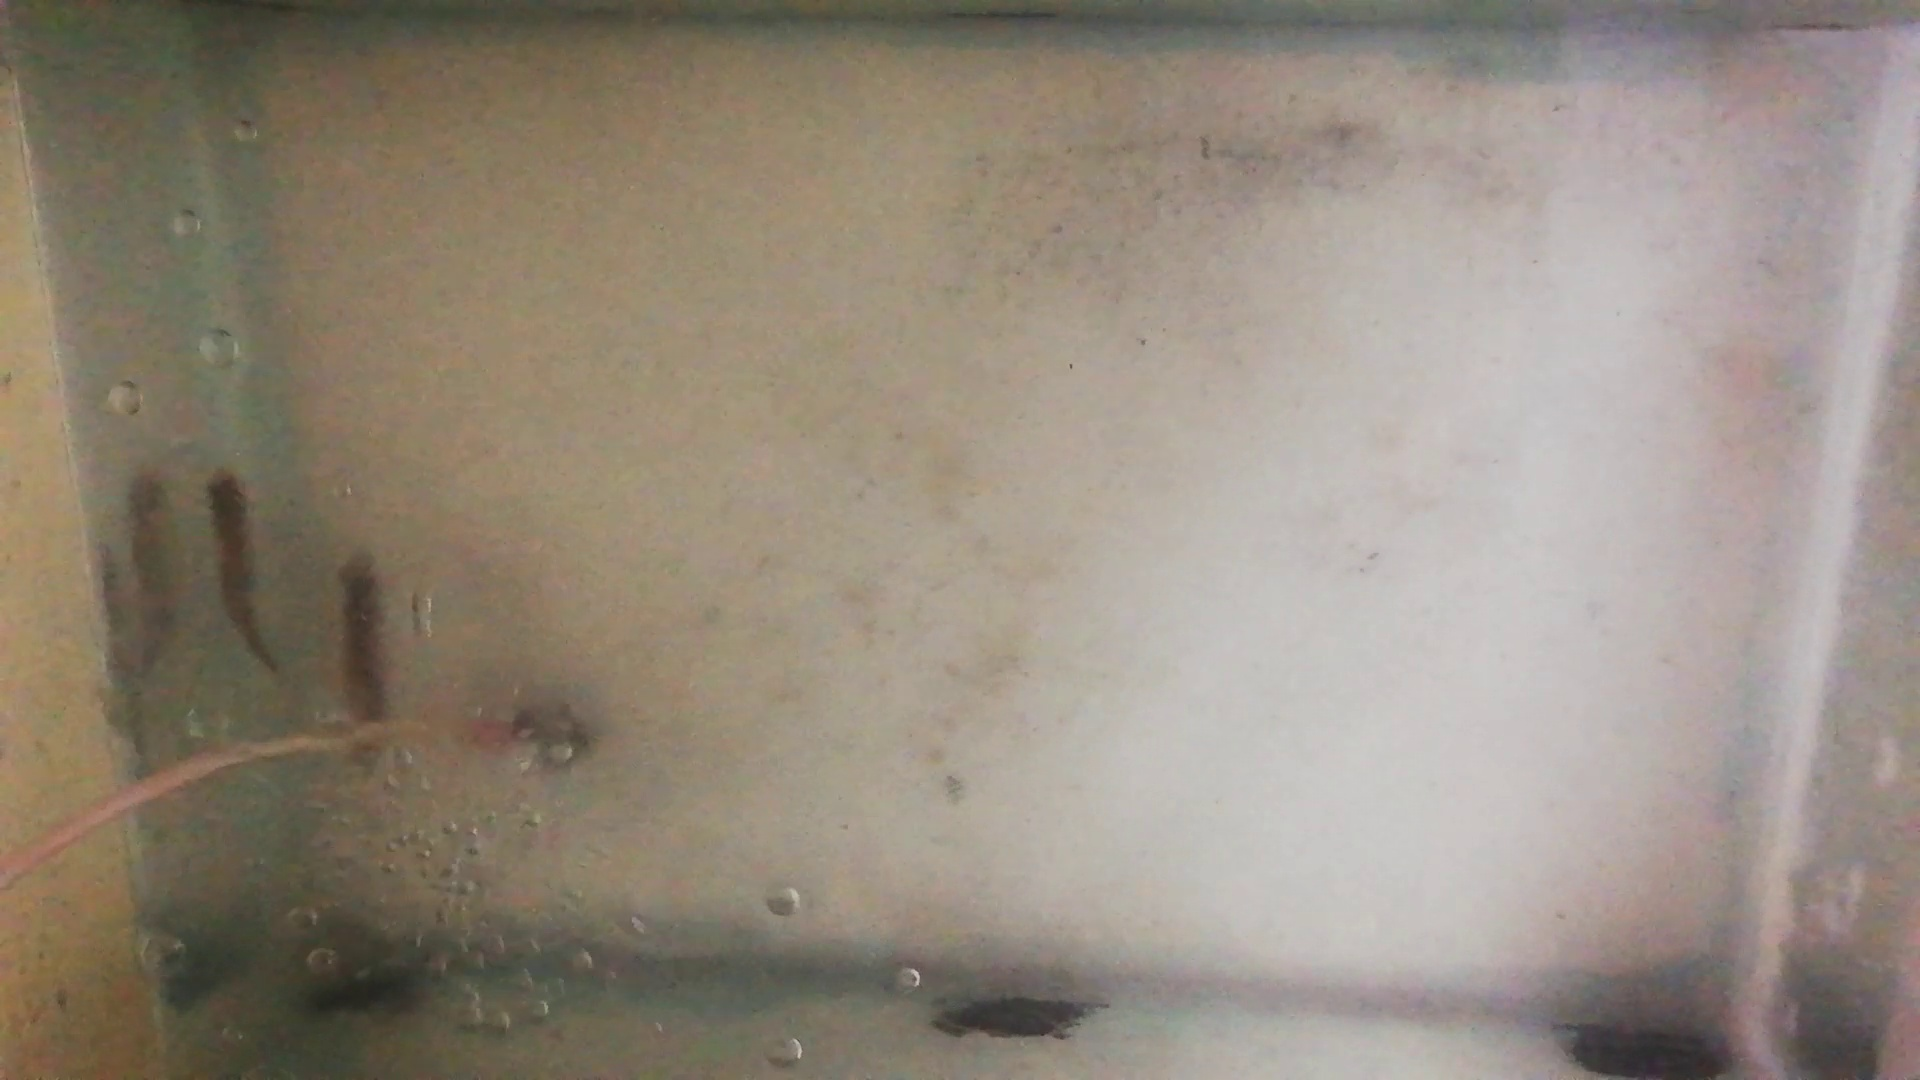fish: (204, 462, 276, 665), (334, 545, 390, 753)
